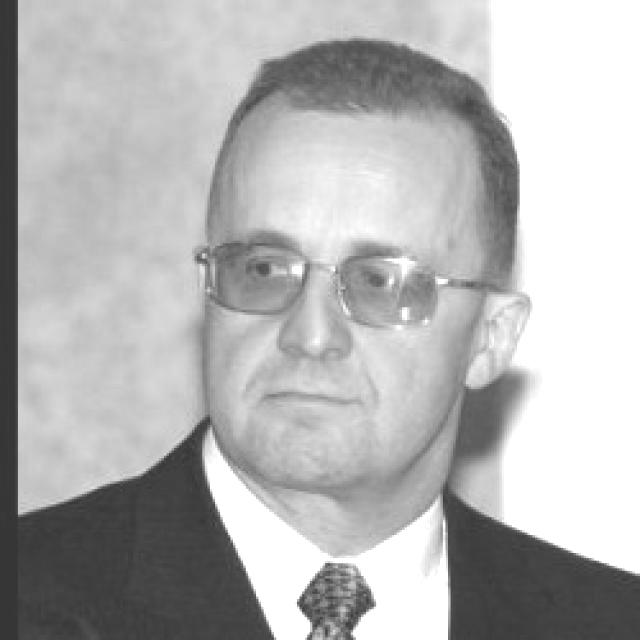real: (198, 33, 514, 512), (211, 228, 427, 323)
